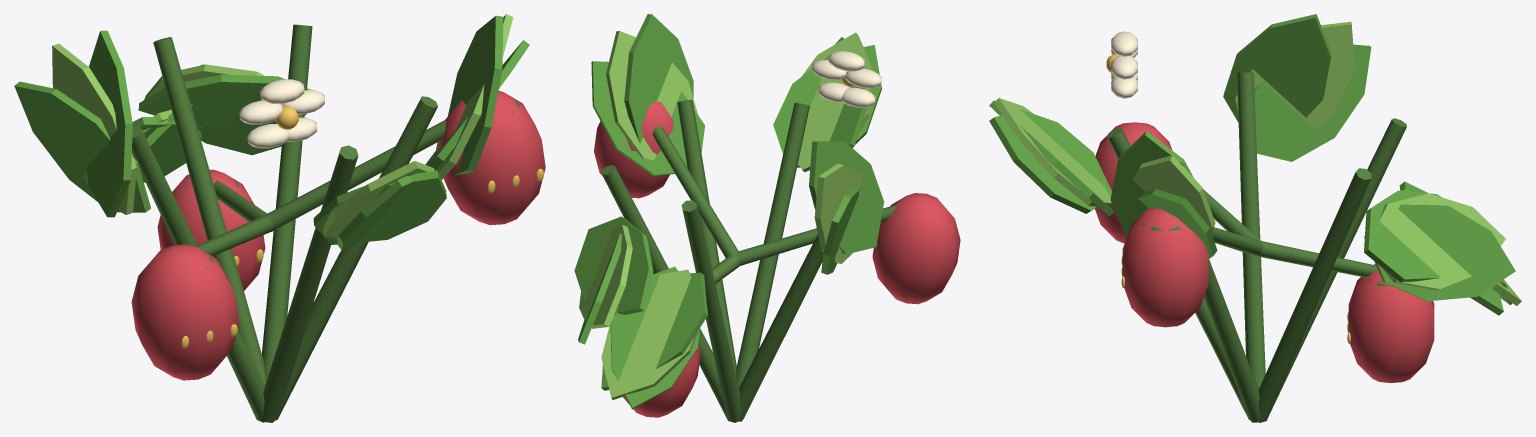
Rendered from strawberry-harvest.glb.
3 views of the same model, side by side, from view 1: azimuth 30°, elevation 25°; view 2: azimuth 150°, elevation 25°; view 3: azimuth 270°, elevation 25° (orthographic). The views are drawn at different scales.
Visible parts, largest first — view 1: strawberry_harvest_stem, strawberry_harvest_leaf, strawberry_harvest_strawberry, strawberry_harvest_leafLight, strawberry_harvest_flower, strawberry_harvest_flowerCore; view 2: strawberry_harvest_leaf, strawberry_harvest_stem, strawberry_harvest_leafLight, strawberry_harvest_strawberry, strawberry_harvest_flower; view 3: strawberry_harvest_leaf, strawberry_harvest_stem, strawberry_harvest_strawberry, strawberry_harvest_leafLight, strawberry_harvest_flower.
Part boxes in pixels (<box>): strawberry_harvest_stem: <box>132,24,446,422</box>; strawberry_harvest_leaf: <box>14,15,529,250</box>; strawberry_harvest_strawberry: <box>131,90,545,380</box>; strawberry_harvest_leafLight: <box>52,14,513,238</box>; strawberry_harvest_flower: <box>239,79,324,148</box>; strawberry_harvest_flowerCore: <box>181,106,543,348</box>; strawberry_harvest_leaf: <box>574,14,884,409</box>; strawberry_harvest_stem: <box>601,99,897,422</box>; strawberry_harvest_leafLight: <box>579,31,873,399</box>; strawberry_harvest_strawberry: <box>594,101,960,417</box>; strawberry_harvest_flower: <box>812,51,881,107</box>; strawberry_harvest_leaf: <box>989,14,1515,315</box>; strawberry_harvest_stem: <box>1106,72,1406,422</box>; strawberry_harvest_strawberry: <box>1095,122,1434,382</box>; strawberry_harvest_leafLight: <box>994,21,1521,305</box>; strawberry_harvest_flower: <box>1111,31,1137,98</box>.
Bounding box in the file's own units: 0.4141 × 0.3867 × 0.5191.
